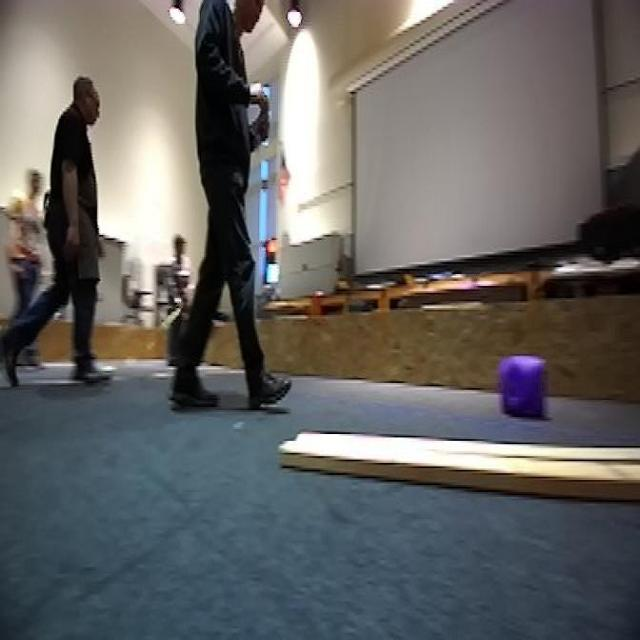frc_cube: (497, 354, 549, 422)
